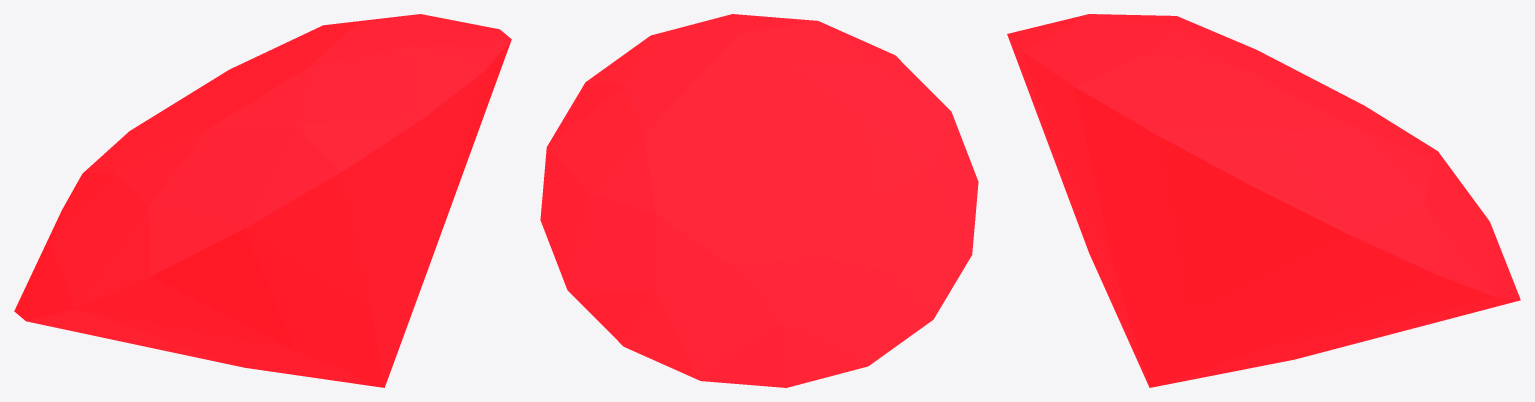
File: SM_Gem_Ruby.fbx
The picture shows the model from 3 angles, left to right: view 1: azimuth 30°, elevation 25°; view 2: azimuth 150°, elevation 25°; view 3: azimuth 270°, elevation 25°; orthographic projection. The views are drawn at different scales.
Visible parts, largest first — view 1: SM_Gem_Ruby; view 2: SM_Gem_Ruby; view 3: SM_Gem_Ruby.
Boxes of the visible parts, x1,y1,x2,y2 form: SM_Gem_Ruby: (14, 14, 511, 387); SM_Gem_Ruby: (540, 14, 978, 387); SM_Gem_Ruby: (1007, 14, 1520, 387).
Size of the model in its own units: 1.18 by 0.8244 by 1.12.
Materials: 1 (1 with a texture image).
